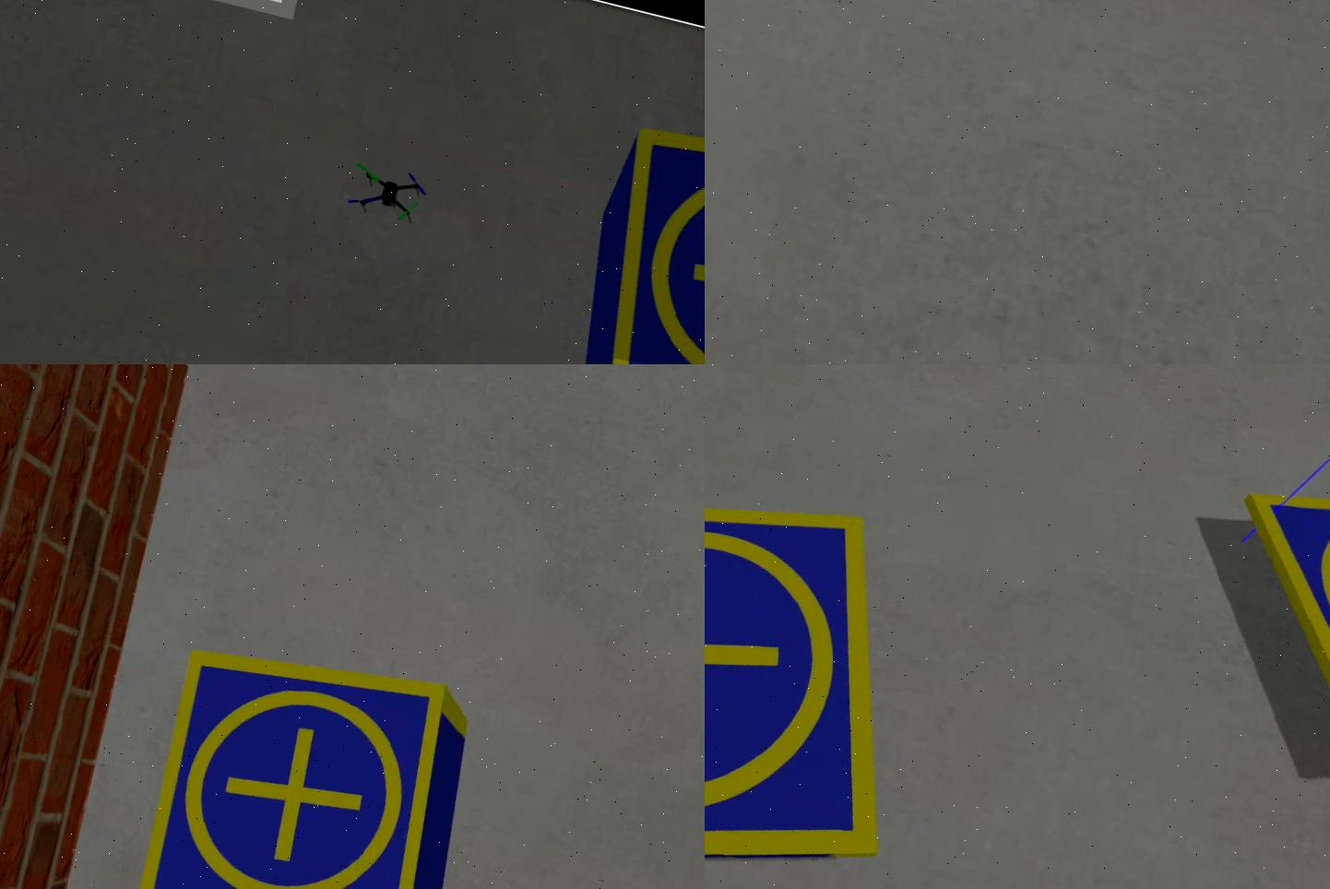small_base: (705, 433, 956, 889), (126, 624, 475, 889), (1190, 450, 1330, 791), (572, 102, 705, 365)
